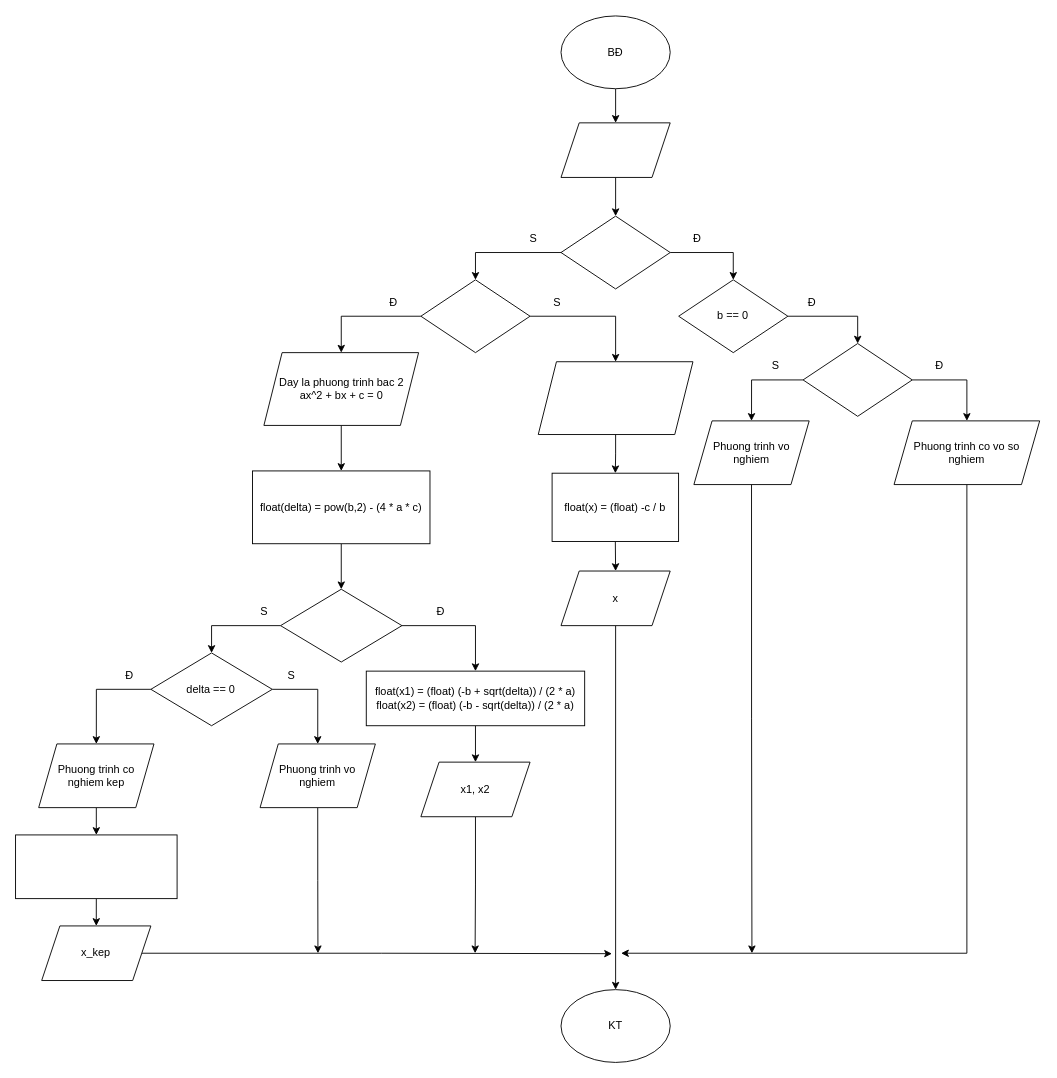
This 1057x1078 diagram has some shape labels left out. Each missing label, with the box of its shape:
a != 0: (420, 279, 530, 353)
a == 0: (560, 215, 670, 289)
a, b, c: (560, 122, 670, 177)
c == 0: (802, 343, 912, 416)
Day la phuong trinh bac 1 bx + c = 0: (537, 361, 693, 435)
delta > 0: (280, 588, 402, 662)
float(x_kep) = (float) -b / (2 * a): (15, 834, 177, 899)
